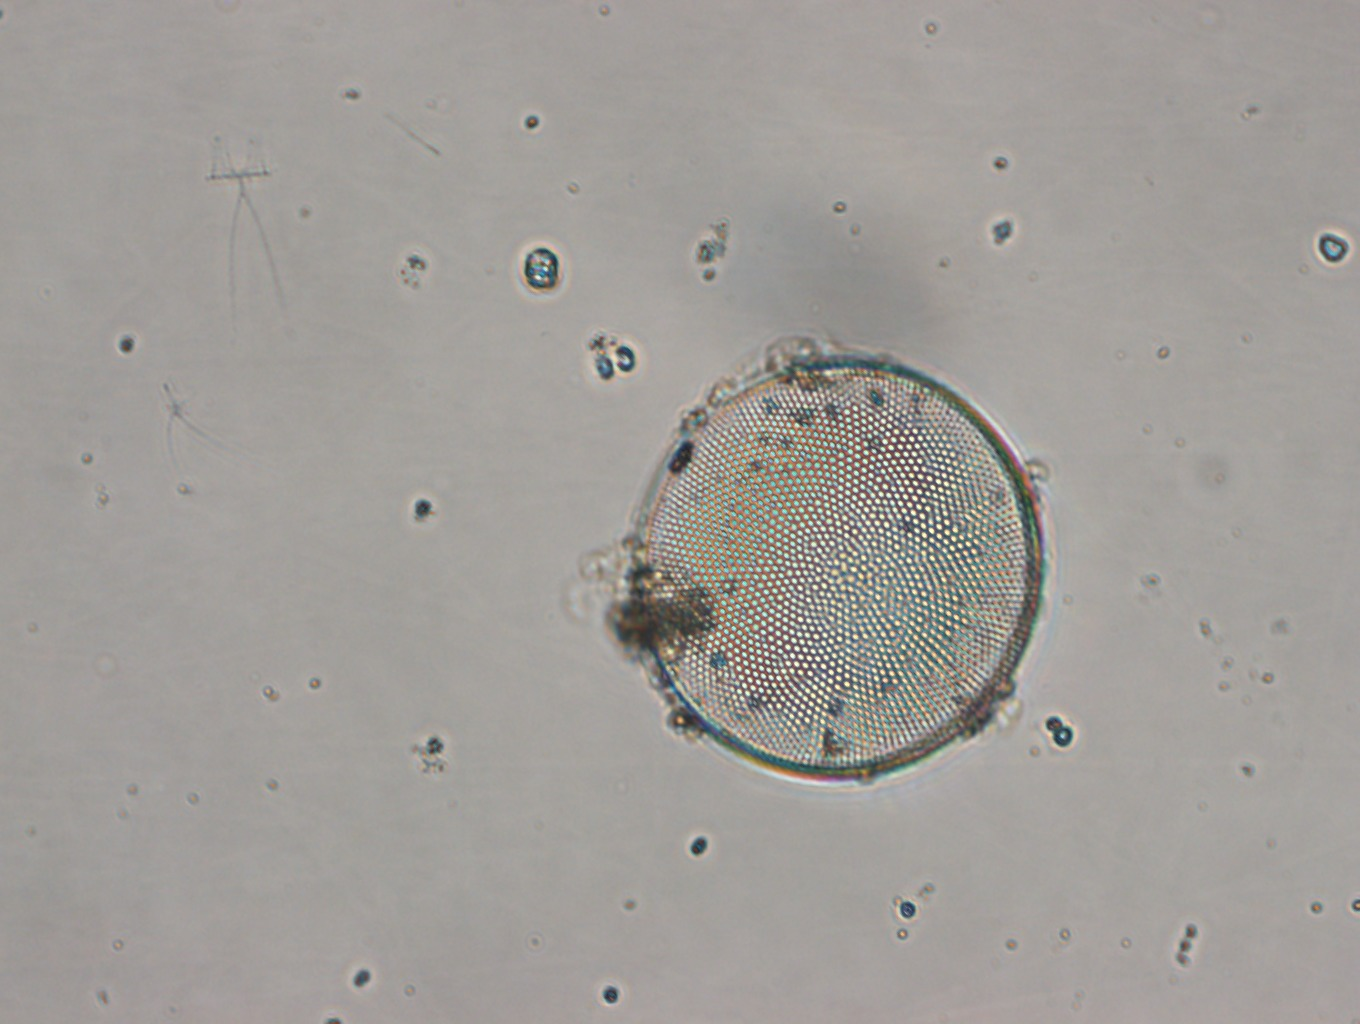chaetoceros: (201, 133, 287, 344)
coscinodiscus: (626, 345, 1051, 787), (628, 347, 1053, 790)
